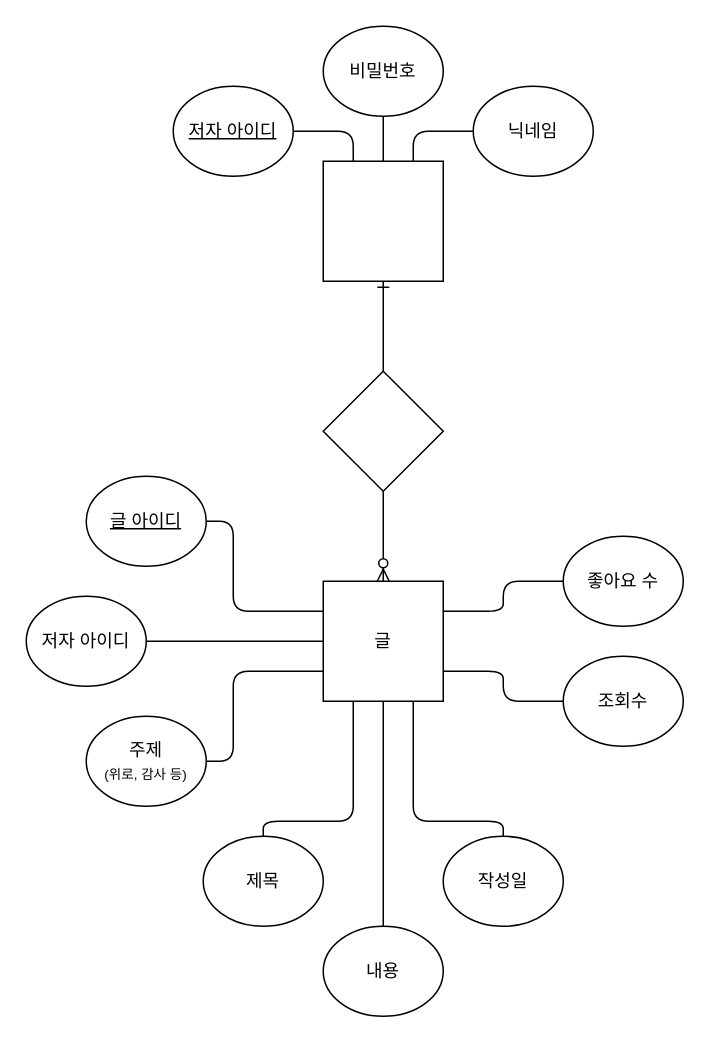
Image size: 710x1043. Some labels were removed from this diagram. The shapes that lost their labels are listed below. From the top down, each one's box as (x1, y1, x2, y2) in pixels, then its label:
(322, 160, 443, 281): 저자
(322, 370, 443, 491): 작성
